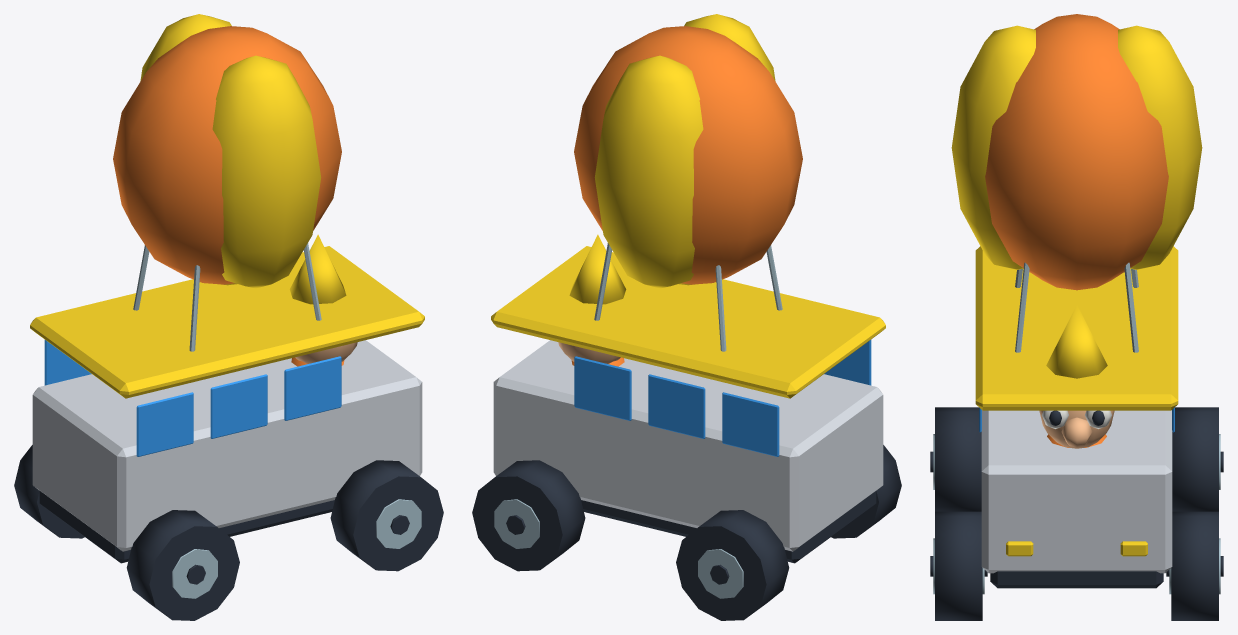
Rendered from kart_3.glb.
3 views of the same model, side by side, from view 1: azimuth 30°, elevation 25°; view 2: azimuth 150°, elevation 25°; view 3: azimuth 270°, elevation 25° (orthographic). The views are drawn at different scales.
Parts seen in each view (by area): view 1: Bus body, Roof, Balloon, Balloon stripe.001, wheel_rr, wheel_fr, Window.004, Window, Window.002, Chassis, Party hat, wheel_rl (+3 smaller); view 2: Bus body, Roof, Balloon, Balloon stripe, wheel_rl, wheel_fl, Window.005, Window.001, Window.003, Chassis, Party hat, wheel_rr (+3 smaller); view 3: Balloon, Bus body, Roof, Balloon stripe.001, Balloon stripe, wheel_fl, wheel_fr, wheel_rl, wheel_rr, Chassis, Party hat, Head (+5 smaller).
Boxes of the visible parts, <box> form: Bus body: <box>32,340,422,551</box>; Roof: <box>30,246,424,398</box>; Balloon: <box>113,26,341,284</box>; Balloon stripe.001: <box>212,55,321,288</box>; wheel_rr: <box>126,510,239,620</box>; wheel_fr: <box>330,460,443,571</box>; Window.004: <box>284,356,341,420</box>; Window: <box>136,392,193,456</box>; Window.002: <box>210,374,267,438</box>; Chassis: <box>39,491,334,563</box>; Party hat: <box>289,234,346,304</box>; wheel_rl: <box>14,445,84,538</box>; Bus body: <box>493,340,883,551</box>; Roof: <box>491,246,885,398</box>; Balloon: <box>574,26,802,284</box>; Balloon stripe: <box>594,55,703,288</box>; wheel_rl: <box>676,510,789,620</box>; wheel_fl: <box>472,460,585,571</box>; Window.005: <box>574,356,631,420</box>; Window.001: <box>722,392,779,456</box>; Window.003: <box>648,374,705,438</box>; Chassis: <box>581,491,876,563</box>; Party hat: <box>569,234,626,304</box>; wheel_rr: <box>831,445,901,538</box>; Balloon: <box>985,14,1168,290</box>; Bus body: <box>981,410,1172,573</box>; Roof: <box>975,246,1178,410</box>; Balloon stripe.001: <box>951,25,1035,269</box>; Balloon stripe: <box>1118,25,1202,269</box>; wheel_fl: <box>1166,511,1223,620</box>; wheel_fr: <box>930,511,987,620</box>; wheel_rl: <box>1172,407,1223,511</box>; wheel_rr: <box>930,407,981,511</box>; Chassis: <box>990,571,1163,588</box>; Party hat: <box>1046,305,1107,378</box>; Head: <box>1039,410,1114,448</box>.
Size of the model in its own units: 3.14 by 4.98 by 2.46.
